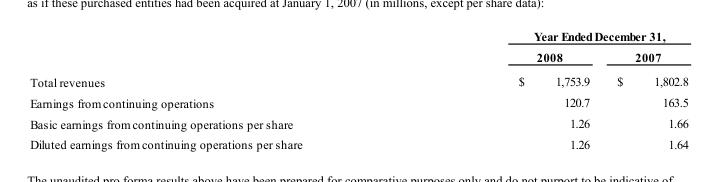table: (29, 28, 687, 151)
table column: (29, 28, 409, 151), (409, 28, 602, 151), (602, 28, 687, 151)
table column header: (29, 28, 687, 68)
table row: (29, 68, 687, 91), (29, 46, 687, 68), (29, 91, 687, 112), (29, 112, 687, 133), (29, 28, 687, 46), (29, 133, 687, 151)
table spanning cell: (409, 28, 687, 46)
